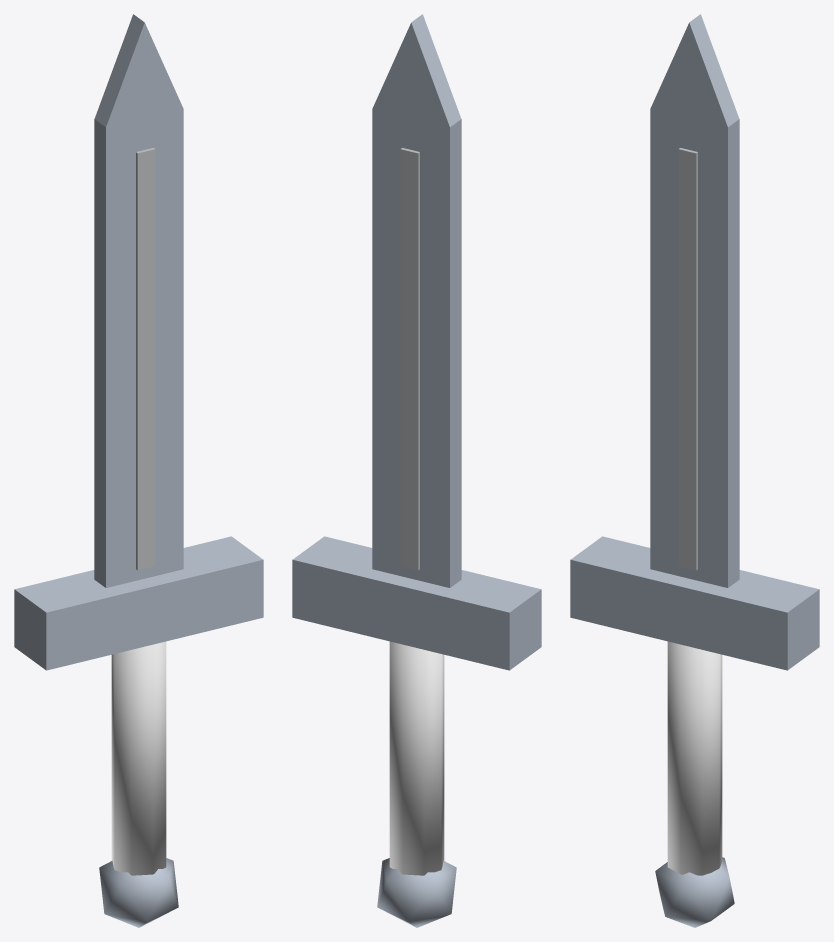
File: stellite_shortsword.glb
3 views of the same model, side by side, from view 1: azimuth 30°, elevation 25°; view 2: azimuth 150°, elevation 25°; view 3: azimuth 330°, elevation 25° (orthographic).
Parts seen in each view (by area): view 1: stellite_shortsword_v0; view 2: stellite_shortsword_v0; view 3: stellite_shortsword_v0.
Part boxes in pixels (<box>): stellite_shortsword_v0: <box>14,14,263,927</box>; stellite_shortsword_v0: <box>292,14,541,927</box>; stellite_shortsword_v0: <box>570,14,819,927</box>.
Bounding box in the file's own units: 0.196 × 0.785 × 0.0595.
